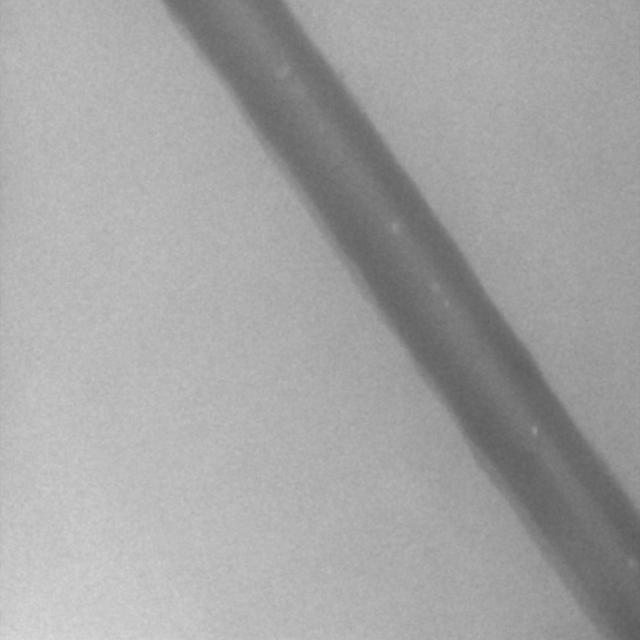air-hole: (278, 58, 286, 81), (390, 221, 400, 234), (630, 555, 640, 567), (530, 425, 540, 436), (298, 86, 304, 99), (432, 276, 438, 288), (320, 123, 326, 132), (446, 300, 451, 310)
